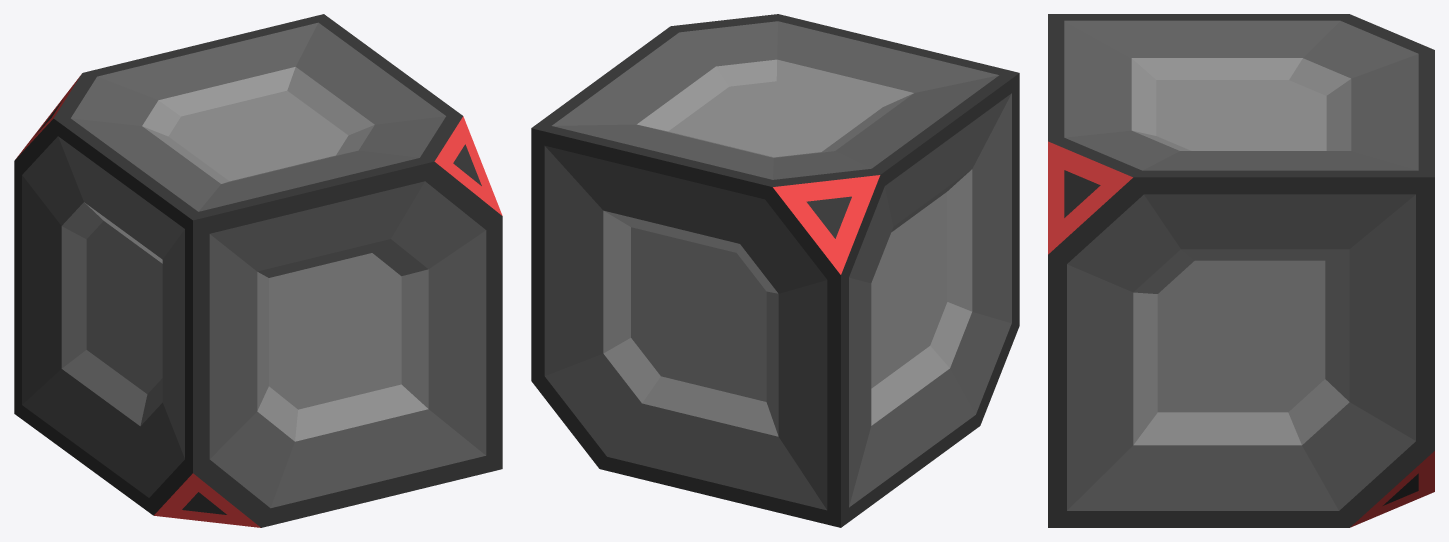
The model's file is Crate.fbx.
The picture shows the model from 3 angles, left to right: view 1: azimuth 30°, elevation 25°; view 2: azimuth 150°, elevation 25°; view 3: azimuth 270°, elevation 25°; orthographic projection. The views are drawn at different scales.
Parts seen in each view (by area): view 1: Crate; view 2: Crate; view 3: Crate.
Boxes of the visible parts, bbox=[...] form: Crate: bbox=[14, 14, 502, 527]; Crate: bbox=[531, 14, 1019, 527]; Crate: bbox=[1048, 14, 1434, 527].
Size of the model in its own units: 150 by 150 by 150.
